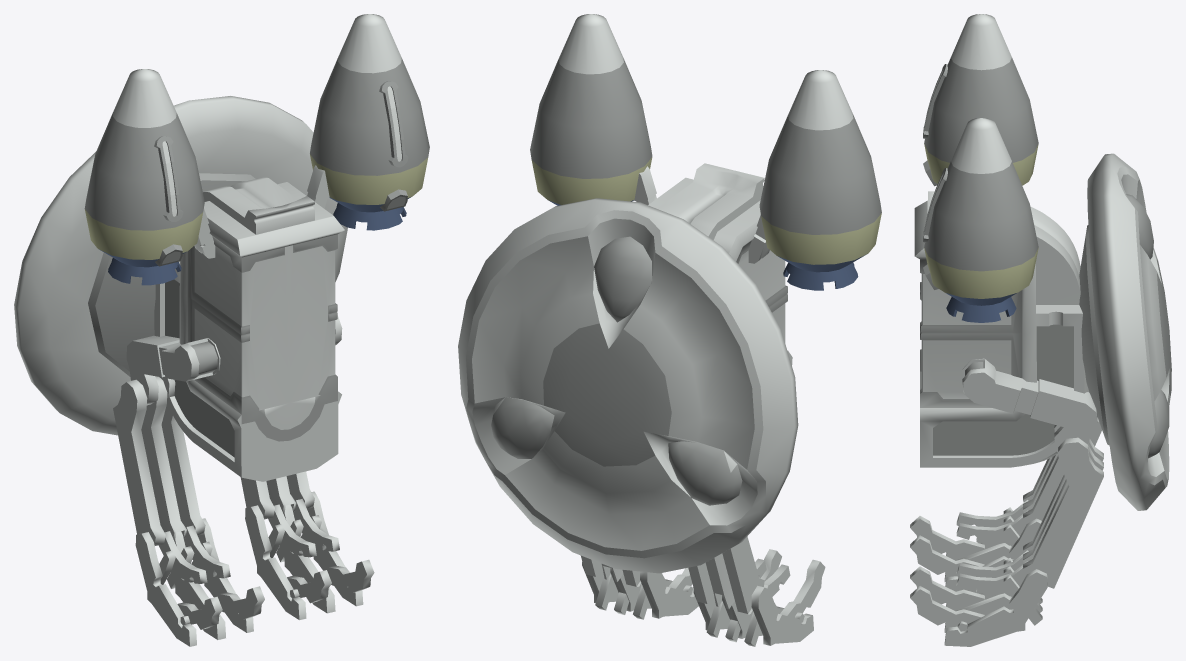
3 renders of one model, left to right at view 1: azimuth 30°, elevation 25°; view 2: azimuth 150°, elevation 25°; view 3: azimuth 270°, elevation 25°, orthographic. The views are drawn at different scales.
Parts seen in each view (by area): view 1: G:\FFXIV-MapTools\exports\u5f1\bg\ex4\04_uvs_u5\fld\u5f1\bgp (×7); view 2: G:\FFXIV-MapTools\exports\u5f1\bg\ex4\04_uvs_u5\fld\u5f1\bgp (×7); view 3: G:\FFXIV-MapTools\exports\u5f1\bg\ex4\04_uvs_u5\fld\u5f1\bgp (×8).
Part boxes in pixels (box(x1,y1,x2,y2)): G:\FFXIV-MapTools\exports\u5f1\bg\ex4\04_uvs_u5\fld\u5f1\bgp (×7): box(14, 14, 429, 646); G:\FFXIV-MapTools\exports\u5f1\bg\ex4\04_uvs_u5\fld\u5f1\bgp (×7): box(458, 14, 881, 646); G:\FFXIV-MapTools\exports\u5f1\bg\ex4\04_uvs_u5\fld\u5f1\bgp (×8): box(910, 14, 1171, 646).
Bounding box in the file's own units: 1.72 × 2.84 × 1.24.
